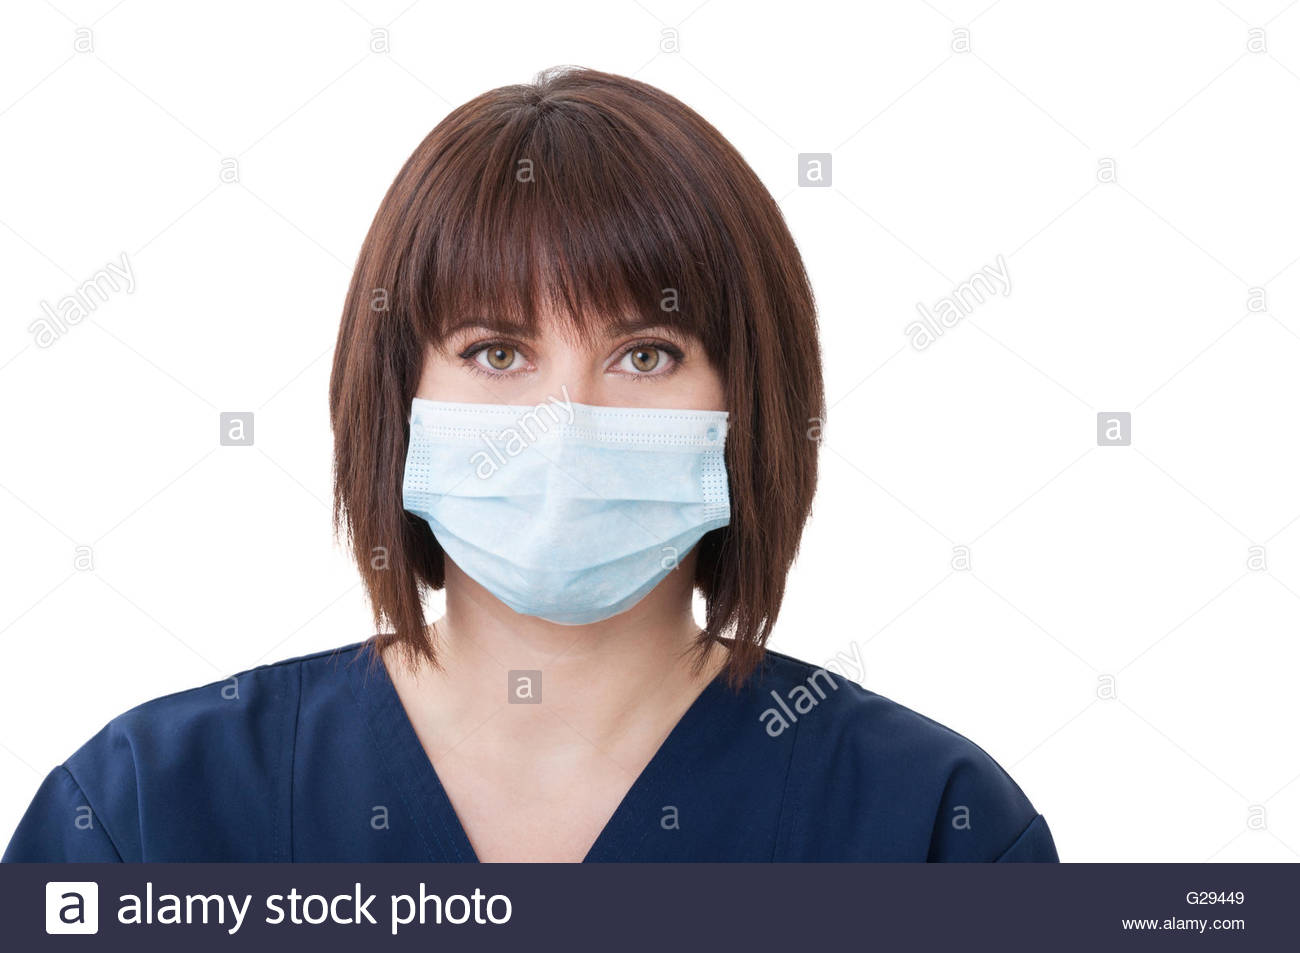mask: (394, 402, 732, 628)
